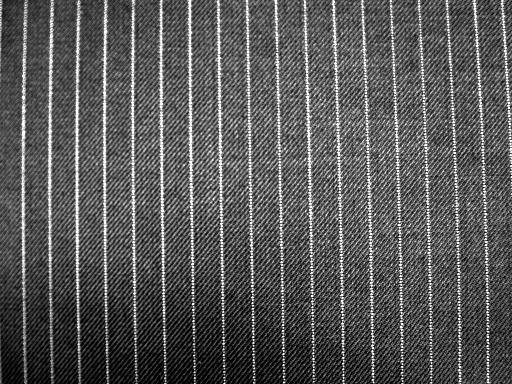fabric_perfect: (2, 1, 510, 383)
